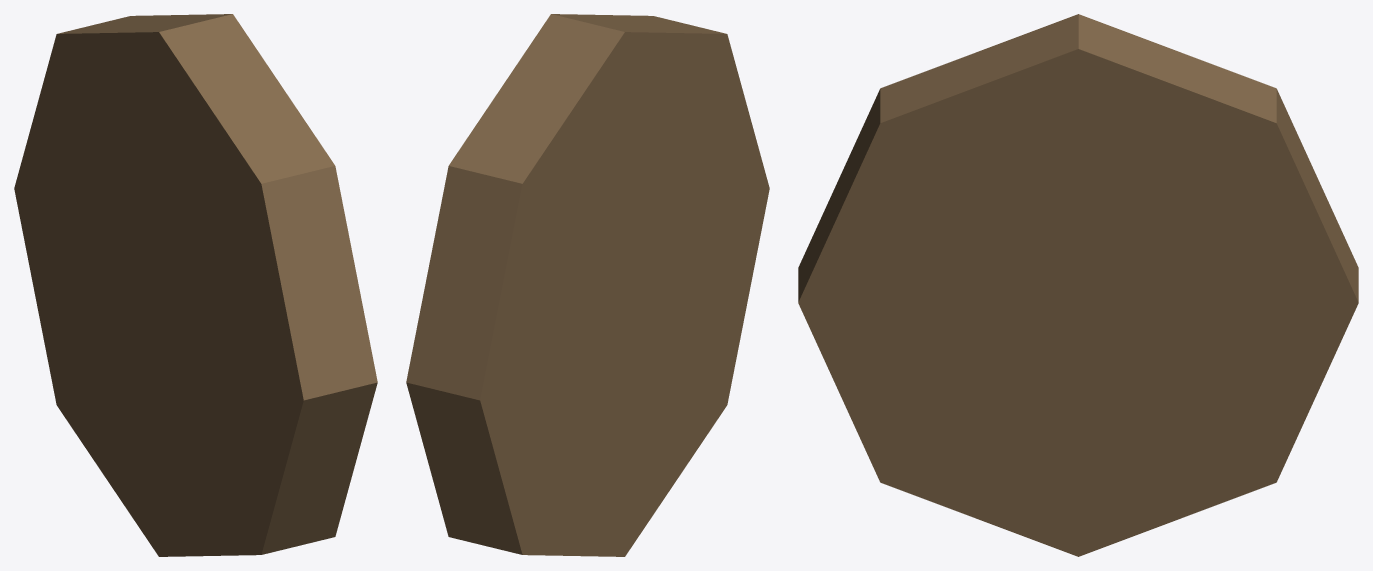
Rendered from SM_Prop_Pipe_01_Cap_01.fbx.
The picture shows the model from 3 angles, left to right: view 1: azimuth 30°, elevation 25°; view 2: azimuth 150°, elevation 25°; view 3: azimuth 270°, elevation 25°; orthographic projection. The views are drawn at different scales.
Visible parts, largest first — view 1: SM_Prop_Pipe_01_Cap_01; view 2: SM_Prop_Pipe_01_Cap_01; view 3: SM_Prop_Pipe_01_Cap_01.
Part boxes in pixels (bbox=[...]): SM_Prop_Pipe_01_Cap_01: bbox=[14, 14, 377, 556]; SM_Prop_Pipe_01_Cap_01: bbox=[406, 14, 769, 556]; SM_Prop_Pipe_01_Cap_01: bbox=[798, 14, 1358, 556].
Size of the model in its own units: 5.59 by 37.9 by 37.9.
